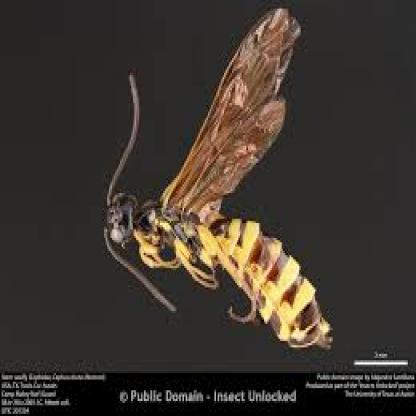sawfly: (101, 7, 336, 350)
